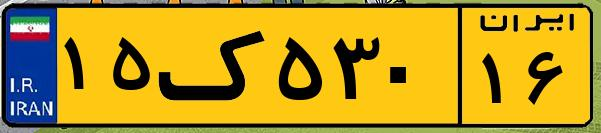0: (385, 28, 445, 110)
1: (57, 26, 110, 100), (475, 38, 525, 113)
3: (330, 28, 385, 110)
5: (270, 28, 330, 110), (110, 28, 158, 98)
6: (525, 38, 570, 115)
ک: (158, 12, 270, 120)
